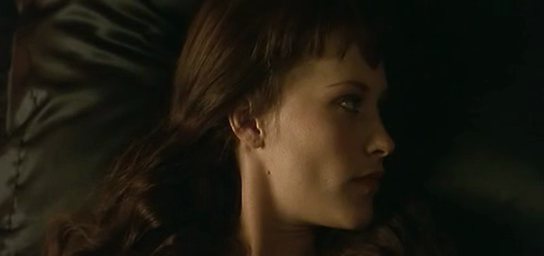cu: (1, 1, 544, 256)
face: (292, 42, 398, 232)
person: (34, 1, 399, 256)
